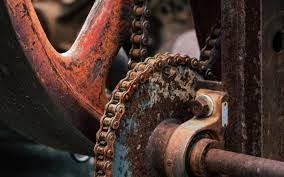rust: (88, 49, 227, 173), (6, 3, 122, 147), (216, 1, 275, 158), (128, 96, 203, 174), (163, 135, 284, 175), (125, 4, 156, 71)
